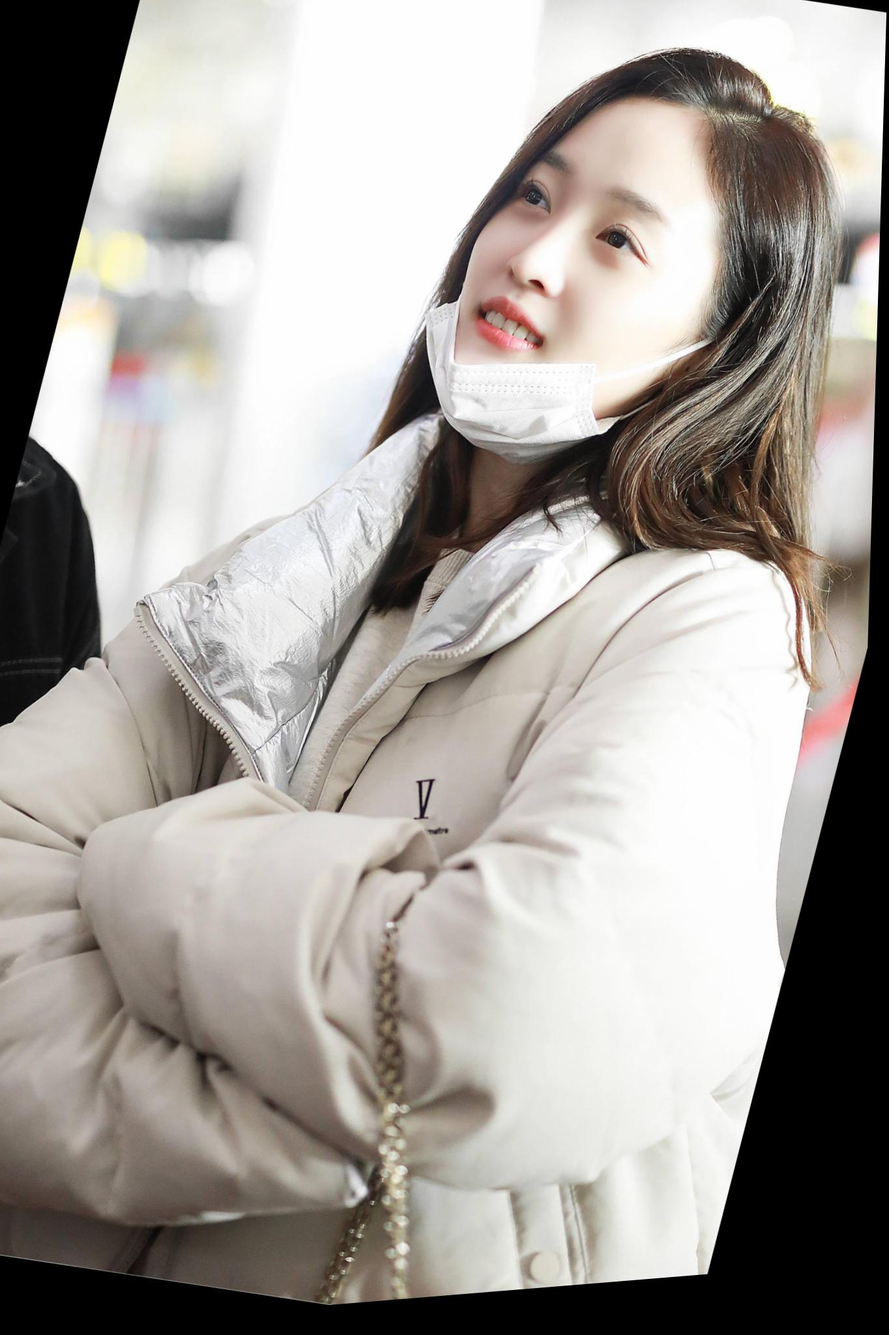WRONG: (425, 132, 731, 488)
